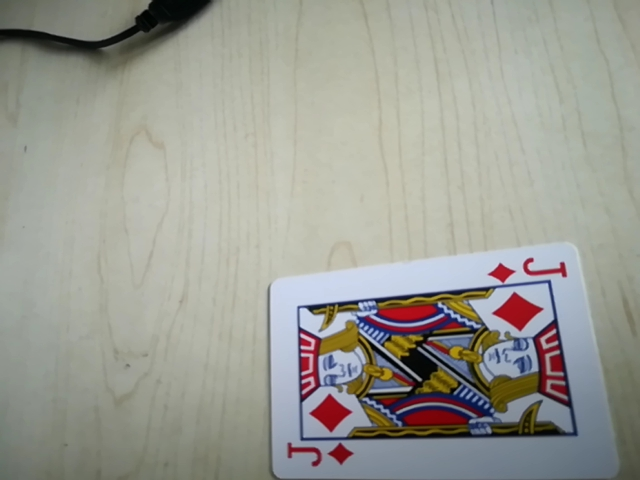fk j: (489, 254, 572, 288), (282, 439, 356, 473)
